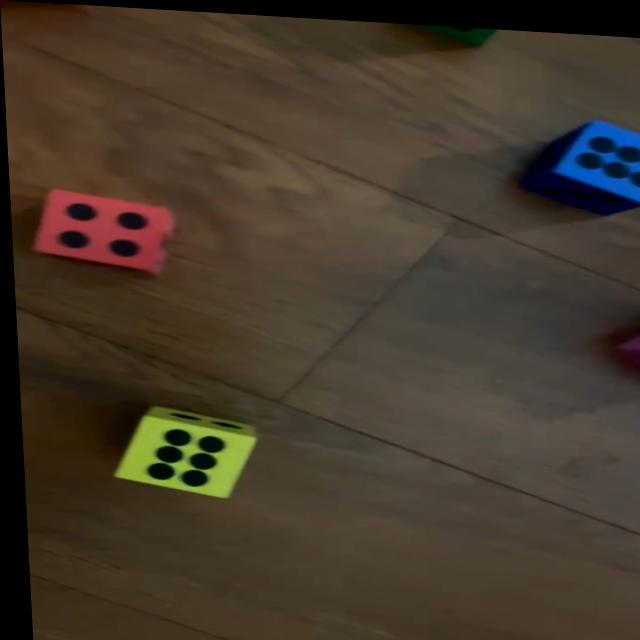cube: (32, 188, 176, 272), (522, 110, 640, 210), (414, 19, 499, 40)
